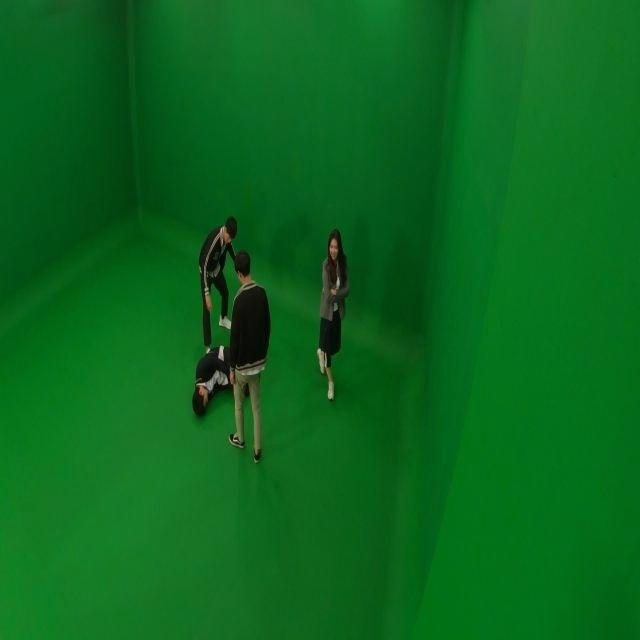fight: (193, 213, 270, 465)
non-fight: (316, 229, 348, 400)
